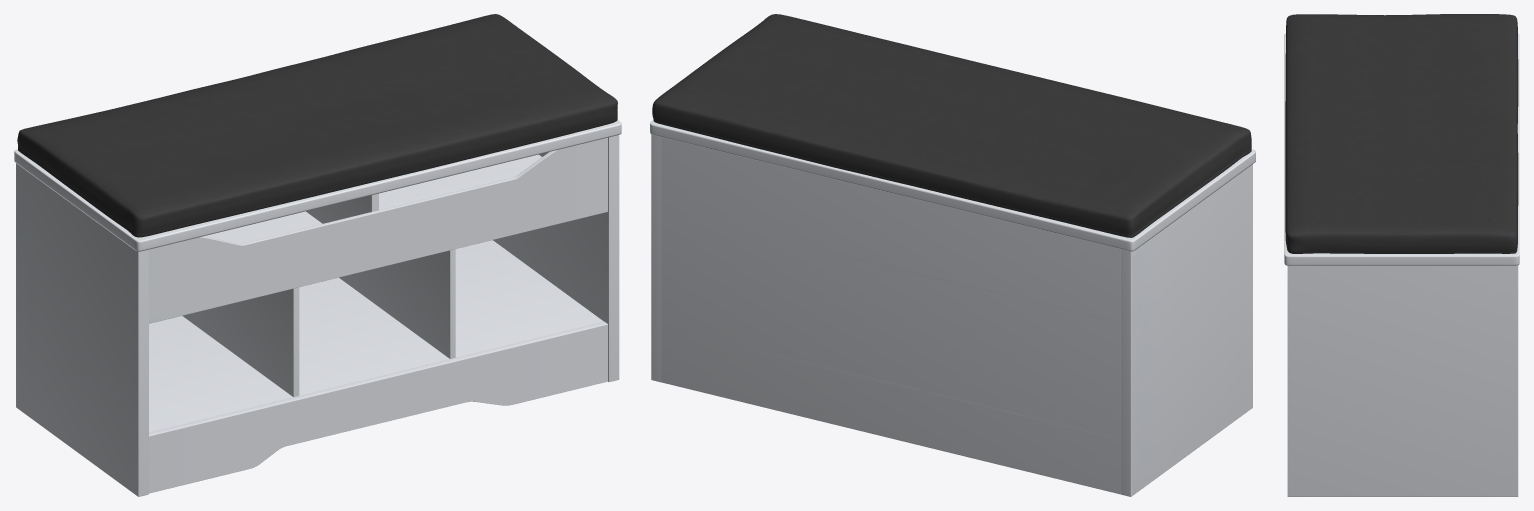
File: abo-B07P652THV.glb
The picture shows the model from 3 angles, left to right: view 1: azimuth 30°, elevation 25°; view 2: azimuth 150°, elevation 25°; view 3: azimuth 270°, elevation 25°; orthographic projection. The views are drawn at different scales.
Bounding box in the file's own units: 0.899 × 0.5 × 0.401.
1 material, 1 textured.
